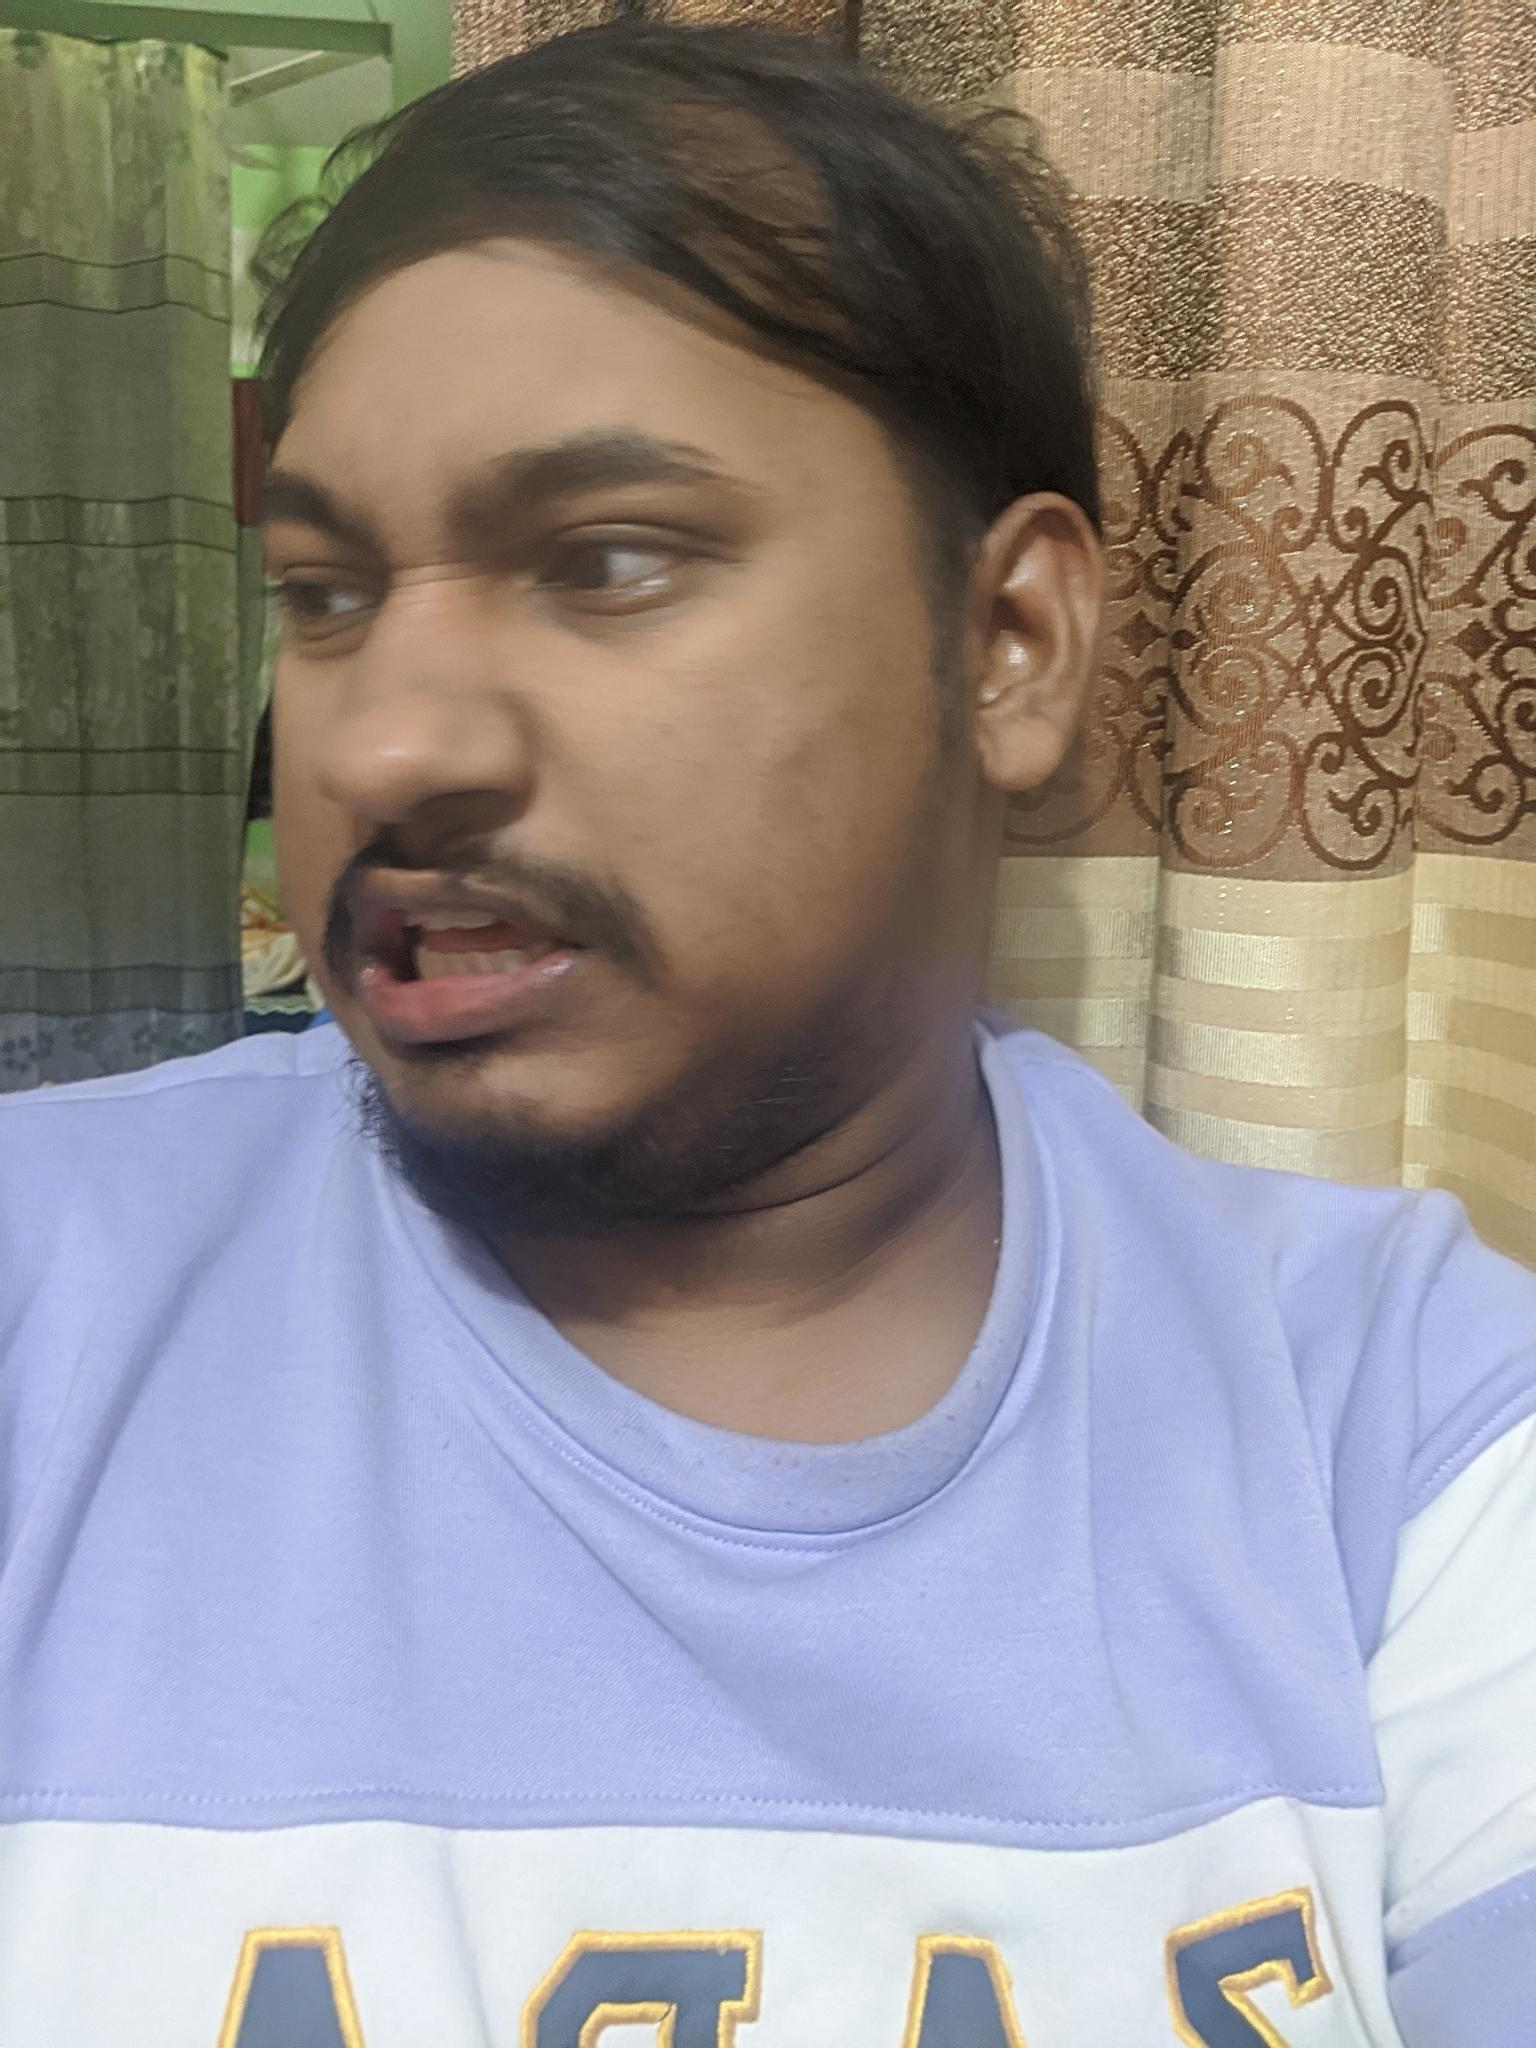Disgust: (174, 366, 821, 1151)
